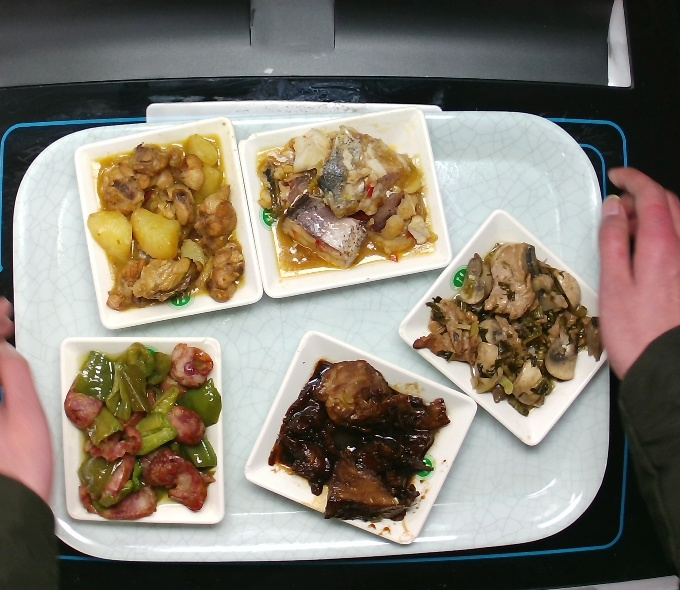wcq-JiangZhiYa: (266, 355, 454, 526)
wcq-MoGuRouPian: (422, 240, 601, 414)
wcq-QingJiaoXiangChang: (63, 338, 221, 522)
wcq-SuanCaiYu: (254, 125, 439, 276)
wcq-TuDouJiKuai: (87, 132, 246, 314)
